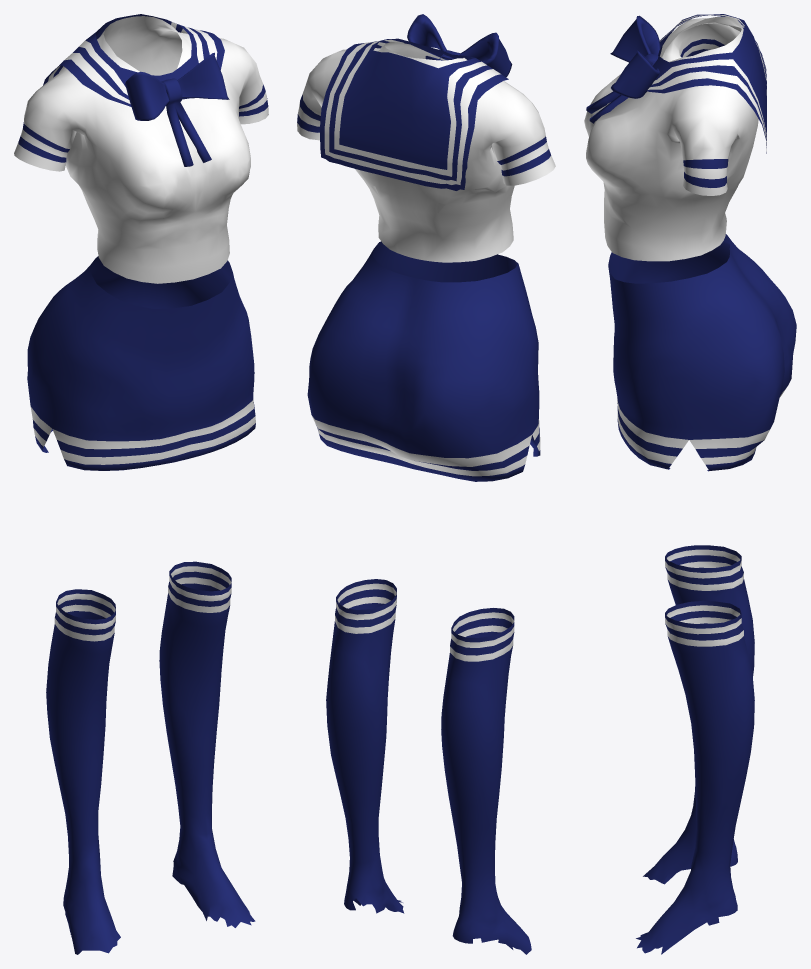
File: weigher_skin_12.fbx
3 renders of one model, left to right at view 1: azimuth 30°, elevation 25°; view 2: azimuth 150°, elevation 25°; view 3: azimuth 270°, elevation 25°, orthographic.
Visible parts, largest first — view 1: dress_11, dress_11_stockings; view 2: dress_11, dress_11_stockings; view 3: dress_11, dress_11_stockings.
Boxes of the visible parts, box(x1,y1,x2,y2) form: dress_11: box(14, 14, 268, 470); dress_11_stockings: box(46, 561, 255, 954); dress_11: box(297, 14, 555, 481); dress_11_stockings: box(326, 579, 531, 954); dress_11: box(584, 14, 796, 471); dress_11_stockings: box(636, 545, 754, 954).
Bounding box in the file's own units: 0.4749 × 1.63 × 0.3532.
